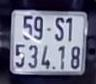1: (65, 14, 75, 43), (57, 45, 67, 71)
3: (26, 41, 40, 70)
4: (41, 43, 52, 70)
5: (13, 41, 26, 68), (22, 14, 34, 41)
8: (69, 45, 81, 70)
9: (33, 15, 45, 42)
S: (53, 15, 65, 42)
